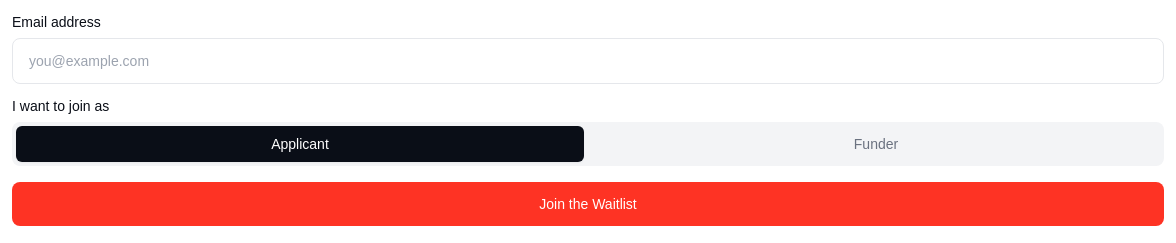
Test: WaitlistForm › shows applicant-specific success message after successful submission as applicant
In the field with placeholder "you@example.com": (588, 61) [12,38,1164,84], type "ap@example.com"
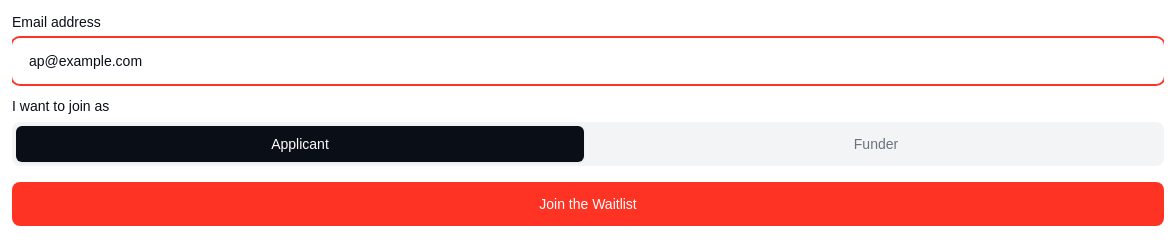
Click the button "Join the Waitlist": click(588, 204) [12,182,1164,226]
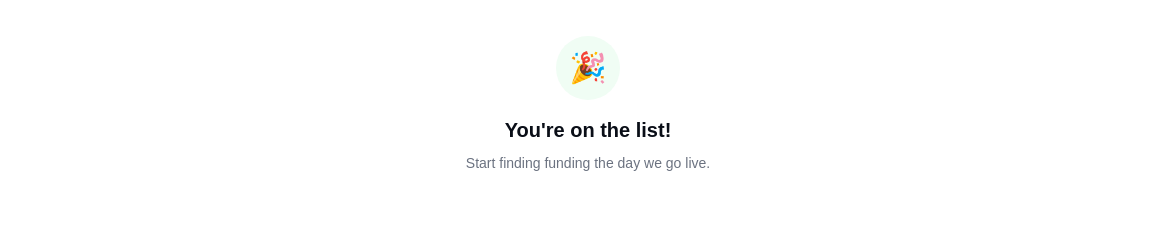
Expected: the heading "You're on the list!" is shown, [505,119,671,141]
Expected: the text "Start finding funding the day we go live." is shown, [466,155,710,171]
